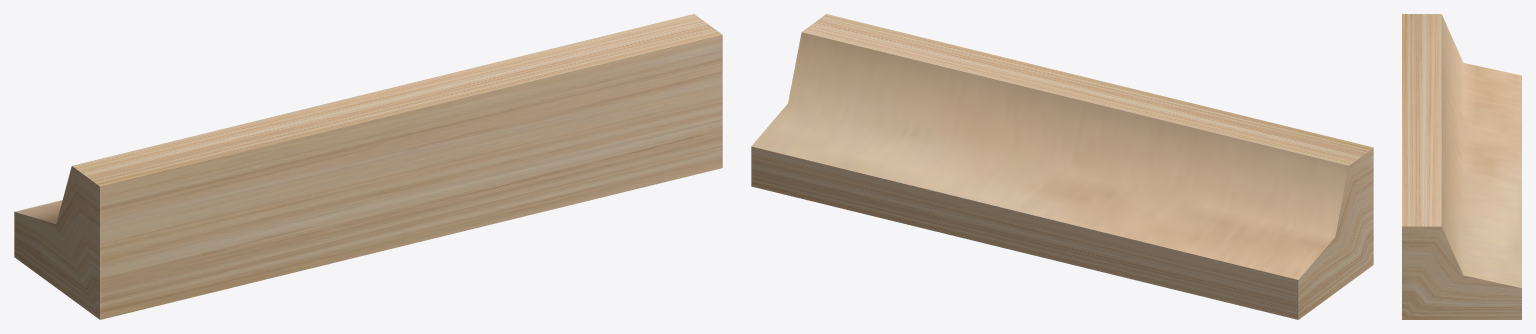
Rendered from bar.FBX.
3 views of the same model, side by side, from view 1: azimuth 30°, elevation 25°; view 2: azimuth 150°, elevation 25°; view 3: azimuth 270°, elevation 25° (orthographic). The views are drawn at different scales.
Parts seen in each view (by area): view 1: Box001; view 2: Box001; view 3: Box001.
Boxes of the visible parts, bbox=[...] form: Box001: bbox=[14, 14, 722, 319]; Box001: bbox=[751, 14, 1373, 319]; Box001: bbox=[1402, 14, 1521, 319].
Size of the model in its own units: 65.01 by 13.32 by 15.5.
1 material, 1 textured.
